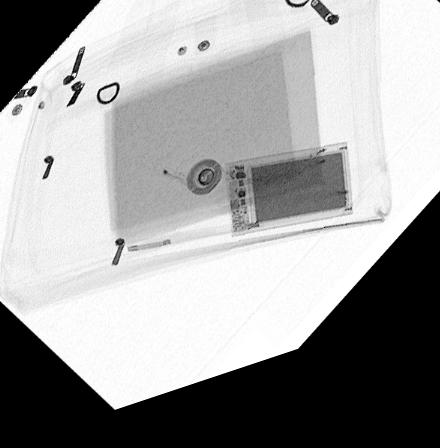Powerbank: (224, 164, 353, 252)
